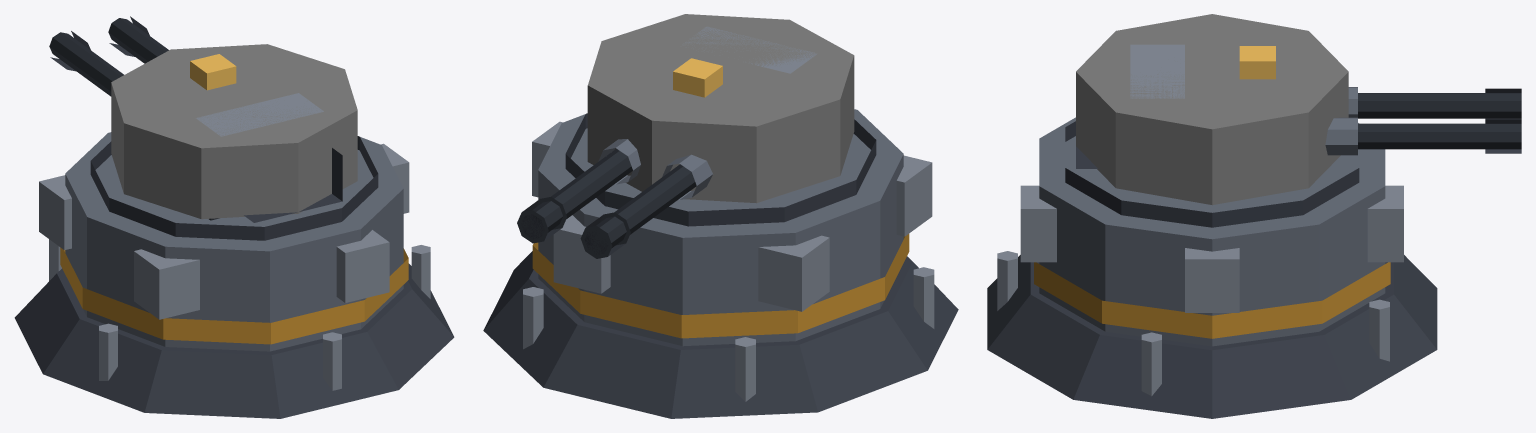
File: turret.obj
The picture shows the model from 3 angles, left to right: view 1: azimuth 30°, elevation 25°; view 2: azimuth 150°, elevation 25°; view 3: azimuth 270°, elevation 25°; orthographic projection. The views are drawn at different scales.
Parts seen in each view (by area): view 1: turret; view 2: turret; view 3: turret.
Part boxes in pixels (box(x1,y1,x2,y2)): turret: box(14, 16, 454, 418); turret: box(483, 14, 958, 418); turret: box(987, 14, 1521, 418).
Size of the model in its own units: 5.2 by 3.22 by 5.87.
